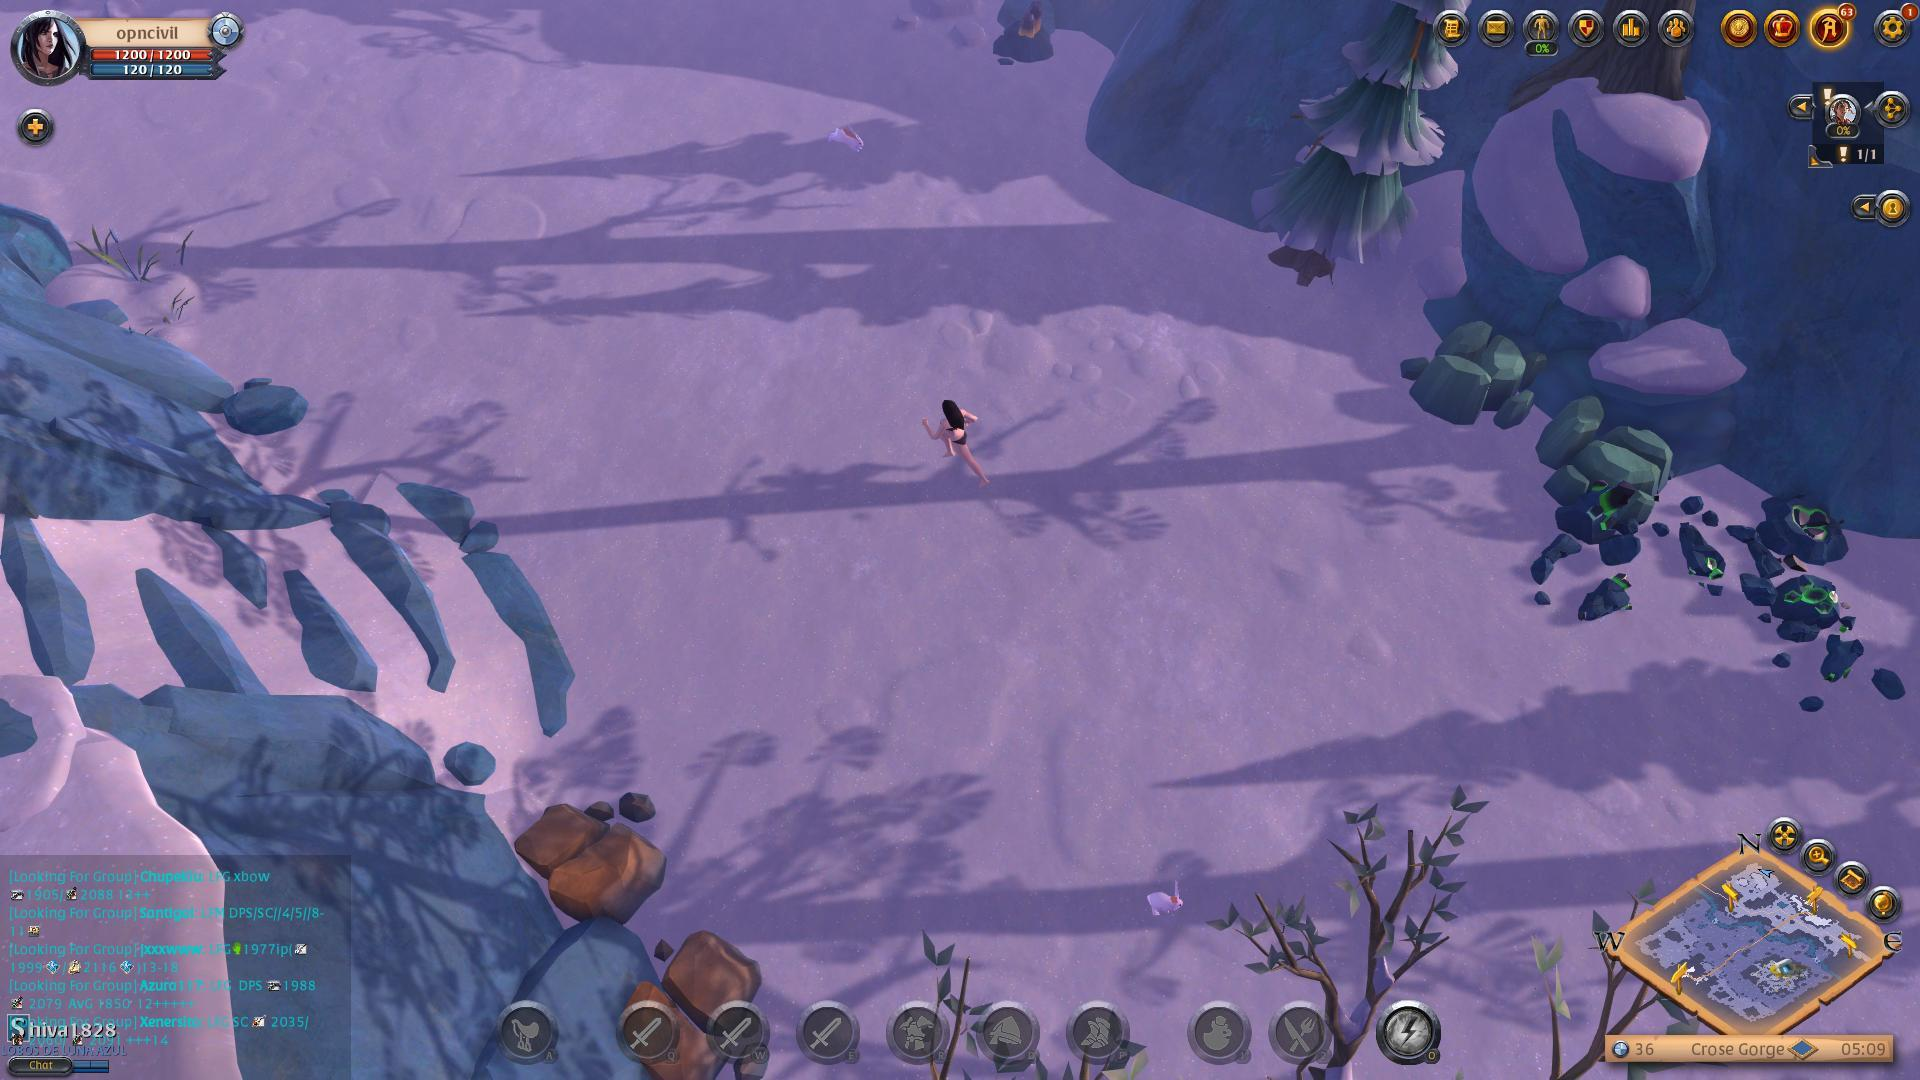copper_ore: (1564, 476, 1644, 546), (982, 3, 1064, 69)
limestone: (622, 927, 764, 1077), (517, 787, 665, 928)
sandstone: (1395, 326, 1563, 425)
